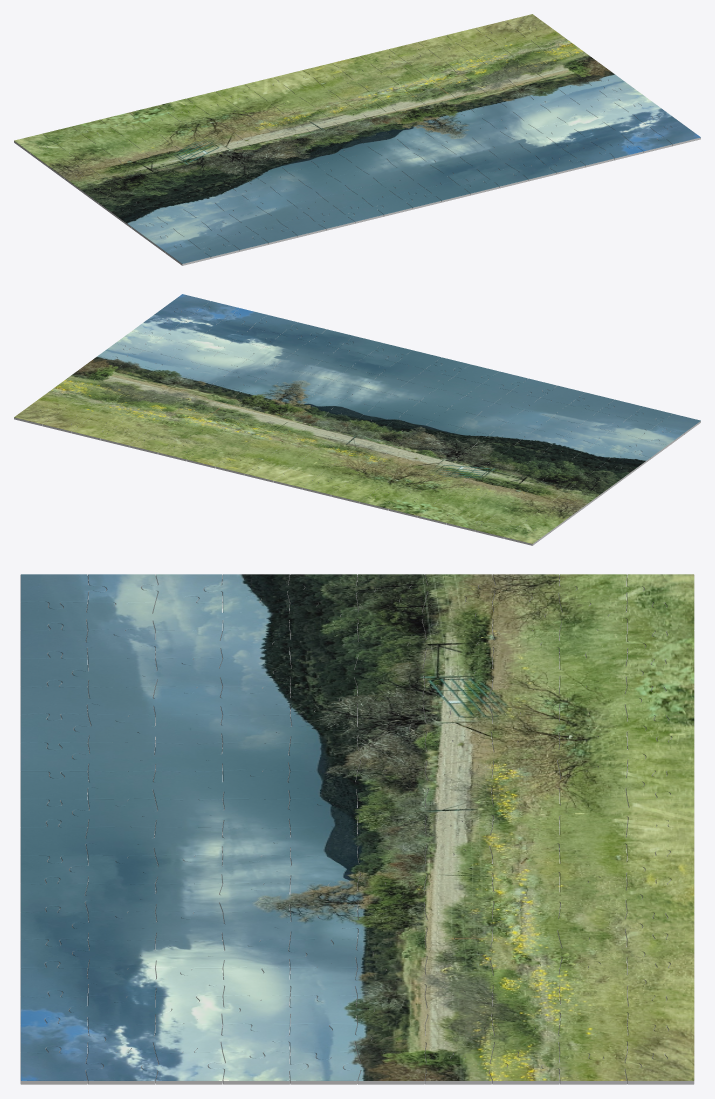
The model's file is puzzle.fbx.
3 renders of one model, top to bottom at view 1: azimuth 30°, elevation 25°; view 2: azimuth 150°, elevation 25°; view 3: azimuth 270°, elevation 25°, orthographic. The views are drawn at different scales.
Parts seen in each view (by area): view 1: Jigsaw Piece.129, Jigsaw Piece.163, Jigsaw Piece.153, Jigsaw Piece, Jigsaw Piece.013, Jigsaw Piece.174, Jigsaw Piece.145, Jigsaw Piece.064, Jigsaw Piece.009, Jigsaw Piece.159, Jigsaw Piece.121, Jigsaw Piece.042 (+168 smaller); view 2: Jigsaw Piece.003, Jigsaw Piece.172, Jigsaw Piece.160, Jigsaw Piece.158, Jigsaw Piece.013, Jigsaw Piece.002, Jigsaw Piece.129, Jigsaw Piece.164, Jigsaw Piece.009, Jigsaw Piece.175, Jigsaw Piece.121, Jigsaw Piece.154 (+168 smaller); view 3: Jigsaw Piece.145, Jigsaw Piece.094, Jigsaw Piece.069, Jigsaw Piece.019, Jigsaw Piece.111, Jigsaw Piece.013, Jigsaw Piece.016, Jigsaw Piece.009, Jigsaw Piece.053, Jigsaw Piece.004, Jigsaw Piece.064, Jigsaw Piece.121 (+168 smaller).
Boxes of the visible parts, x1=… form: Jigsaw Piece.129: x1=165, y1=244, x2=210, y2=265; Jigsaw Piece.163: x1=424, y1=181, x2=470, y2=202; Jigsaw Piece.153: x1=281, y1=216, x2=325, y2=237; Jigsaw Piece: x1=627, y1=132, x2=672, y2=153; Jigsaw Piece.013: x1=347, y1=68, x2=393, y2=87; Jigsaw Piece.174: x1=569, y1=146, x2=614, y2=167; Jigsaw Piece.145: x1=656, y1=125, x2=700, y2=146; Jigsaw Piece.064: x1=399, y1=105, x2=443, y2=124; Jigsaw Piece.009: x1=233, y1=97, x2=277, y2=115; Jigsaw Piece.159: x1=367, y1=195, x2=412, y2=216; Jigsaw Piece.121: x1=391, y1=156, x2=435, y2=175; Jigsaw Piece.042: x1=237, y1=128, x2=282, y2=147; Jigsaw Piece.003: x1=475, y1=517, x2=520, y2=538; Jigsaw Piece.172: x1=71, y1=419, x2=116, y2=440; Jigsaw Piece.160: x1=244, y1=461, x2=289, y2=482; Jigsaw Piece.158: x1=273, y1=468, x2=318, y2=489; Jigsaw Piece.013: x1=204, y1=435, x2=249, y2=454; Jigsaw Piece.002: x1=504, y1=524, x2=549, y2=545; Jigsaw Piece.129: x1=655, y1=413, x2=700, y2=434; Jigsaw Piece.164: x1=186, y1=447, x2=231, y2=468; Jigsaw Piece.009: x1=319, y1=463, x2=363, y2=482; Jigsaw Piece.175: x1=42, y1=412, x2=87, y2=433; Jigsaw Piece.121: x1=363, y1=374, x2=407, y2=394; Jigsaw Piece.154: x1=331, y1=482, x2=376, y2=503; Jigsaw Piece.145: x1=20, y1=1046, x2=103, y2=1084; Jigsaw Piece.094: x1=208, y1=1051, x2=307, y2=1084; Jigsaw Piece.069: x1=343, y1=1046, x2=425, y2=1084; Jigsaw Piece.019: x1=541, y1=1052, x2=641, y2=1084; Jigsaw Piece.111: x1=141, y1=1046, x2=224, y2=1084; Jigsaw Piece.013: x1=542, y1=875, x2=642, y2=918; Jigsaw Piece.016: x1=559, y1=961, x2=645, y2=1003; Jigsaw Piece.009: x1=543, y1=765, x2=643, y2=805; Jigsaw Piece.053: x1=409, y1=1052, x2=507, y2=1084; Jigsaw Piece.004: x1=541, y1=624, x2=645, y2=660; Jigsaw Piece.064: x1=341, y1=878, x2=440, y2=918; Jigsaw Piece.121: x1=137, y1=820, x2=239, y2=862.
Size of the model in its own units: 30.35 by 0.13 by 17.06.
Materials: 2 (1 with a texture image).
